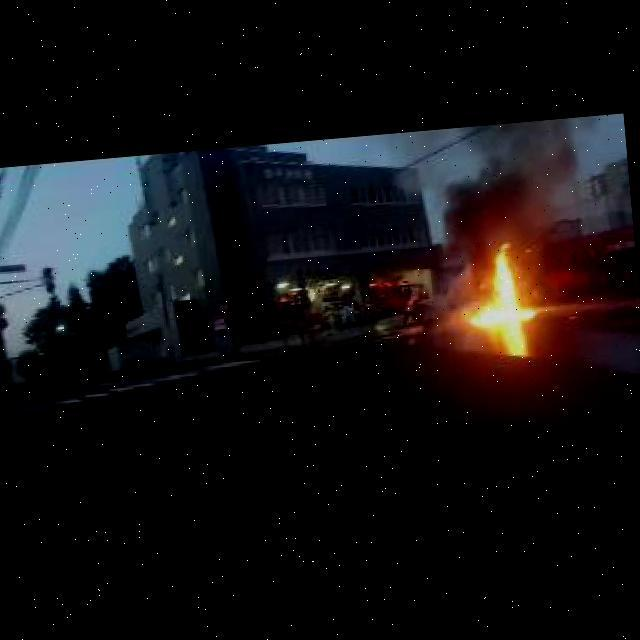Fire: (466, 242, 537, 331)
Smoke: (428, 115, 614, 250)
